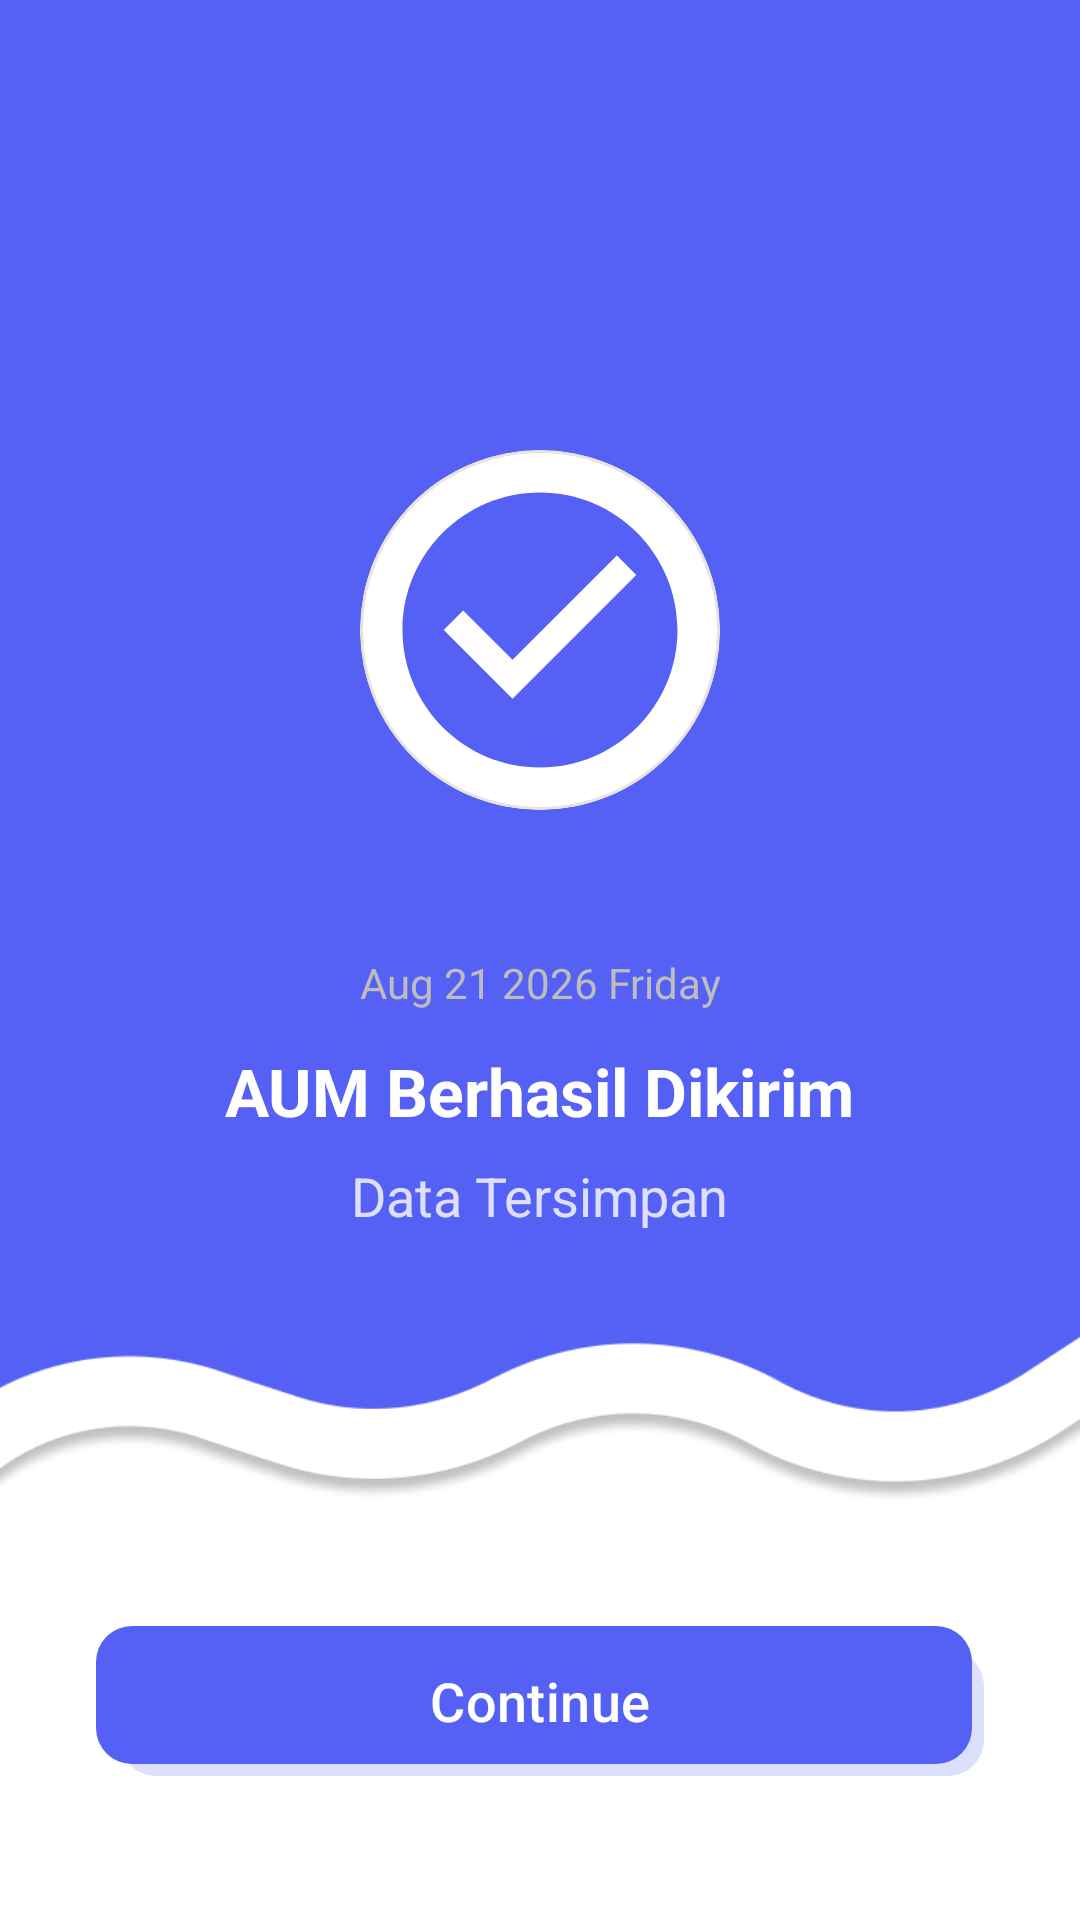

Icons on this 1080 × 1920 Android screen, each with its box as (x1, y1, x2, y2):
check circle: (375, 465, 705, 795)
